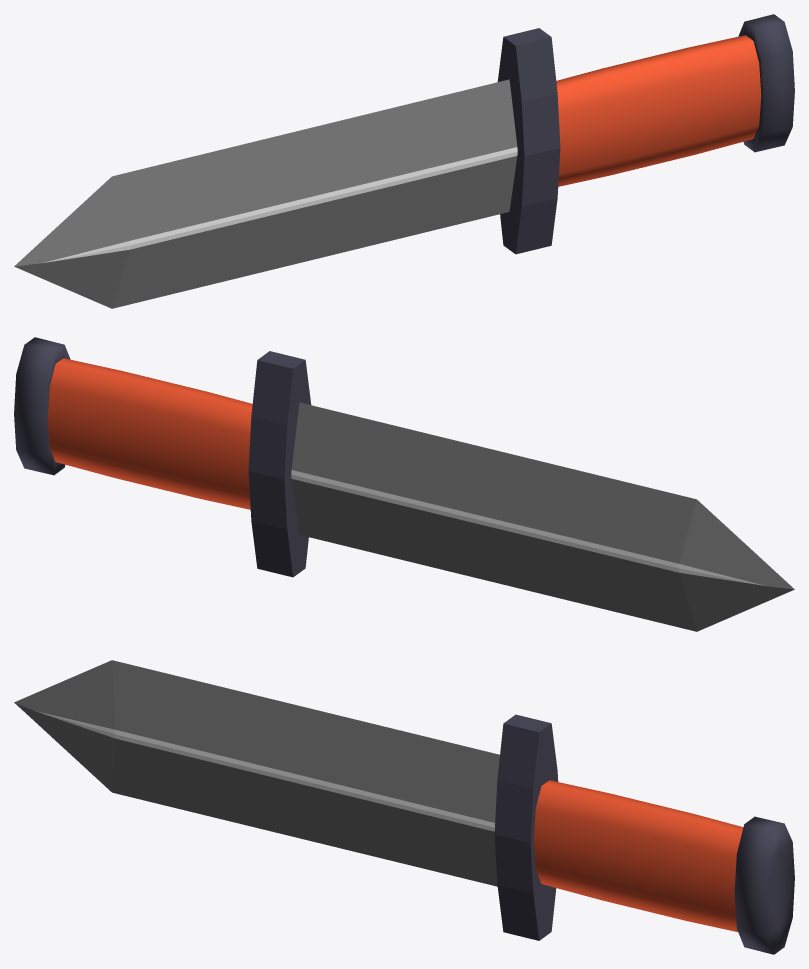
The model's file is O_Knife_01.fbx.
3 renders of one model, top to bottom at view 1: azimuth 30°, elevation 25°; view 2: azimuth 150°, elevation 25°; view 3: azimuth 330°, elevation 25°, orthographic.
Parts seen in each view (by area): view 1: Blade.002; view 2: Blade.002; view 3: Blade.002.
Boxes of the visible parts, x1=… form: Blade.002: x1=14, y1=14, x2=794, y2=308; Blade.002: x1=14, y1=337, x2=794, y2=631; Blade.002: x1=14, y1=660, x2=794, y2=954.
Bounding box in the file's own units: 2.19 × 0.5707 × 0.1521.
